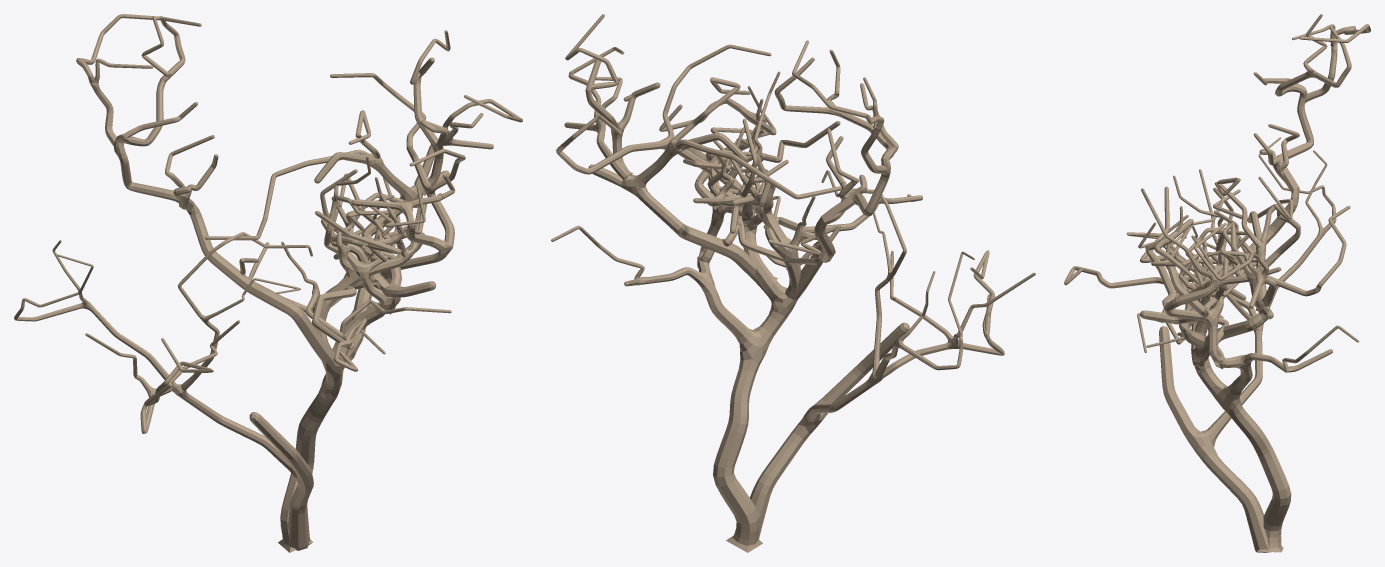
3 views of the same model, side by side, from view 1: azimuth 30°, elevation 25°; view 2: azimuth 150°, elevation 25°; view 3: azimuth 270°, elevation 25° (orthographic). The views are drawn at different scales.
Parts seen in each view (by area): view 1: Arbusto; view 2: Arbusto; view 3: Arbusto.
Boxes of the visible parts, x1=… form: Arbusto: x1=14, y1=14, x2=522, y2=552; Arbusto: x1=551, y1=14, x2=1035, y2=552; Arbusto: x1=1064, y1=14, x2=1370, y2=552.
Size of the model in its own units: 3.05 by 3.49 by 1.99.
